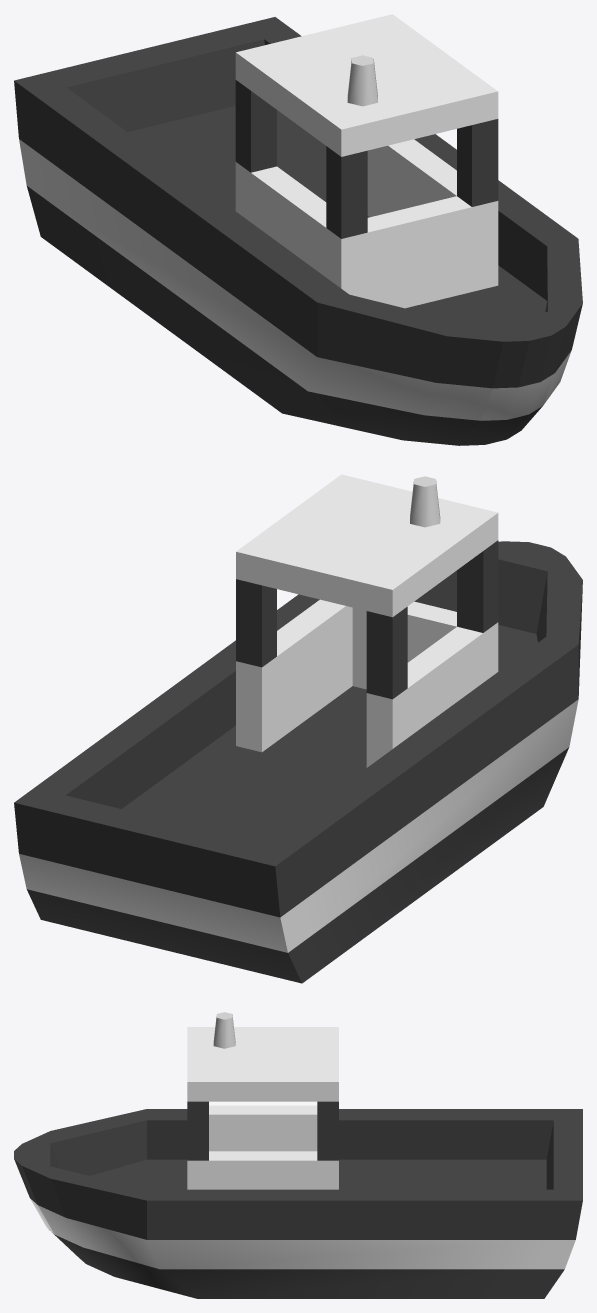
File: PoliceBoat-fbx.FBX
3 renders of one model, top to bottom at view 1: azimuth 30°, elevation 25°; view 2: azimuth 150°, elevation 25°; view 3: azimuth 270°, elevation 25°, orthographic. The views are drawn at different scales.
Parts seen in each view (by area): view 1: Body, Cabin, RedLight; view 2: Body, Cabin, RedLight; view 3: Body, Cabin, RedLight.
Boxes of the visible parts, box(x1,y1,x2,y2) form: Body: box(14, 17, 582, 445); Cabin: box(235, 14, 498, 308); RedLight: box(347, 55, 377, 106); Body: box(14, 541, 582, 983); Cabin: box(236, 474, 498, 767); RedLight: box(410, 476, 440, 527); Body: box(14, 1109, 582, 1298); Cabin: box(187, 1027, 338, 1189); RedLight: box(213, 1012, 235, 1048).
Bounding box in the file's own units: 50 × 57.55 × 131.
1 material, 1 textured.
